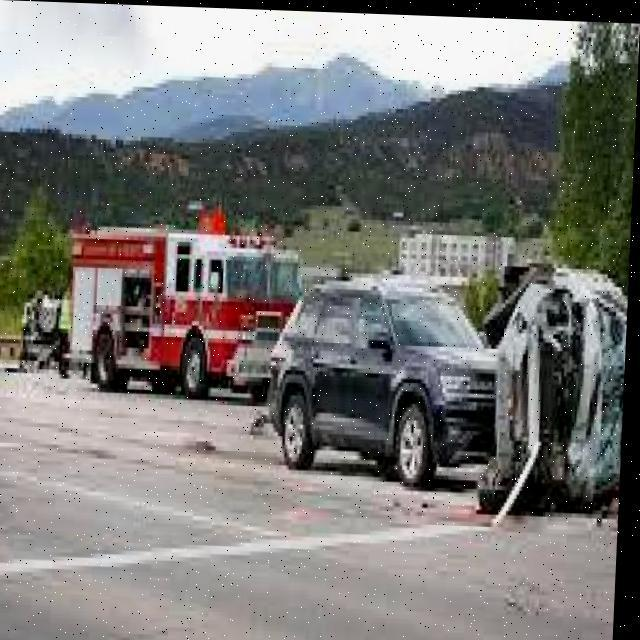normal: (340, 205, 640, 482)
